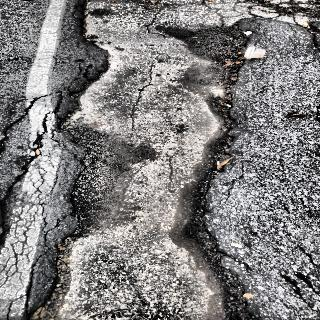alligator-crack: (0, 45, 100, 320), (248, 210, 320, 320), (222, 0, 320, 38)
pothole: (61, 0, 248, 320)
